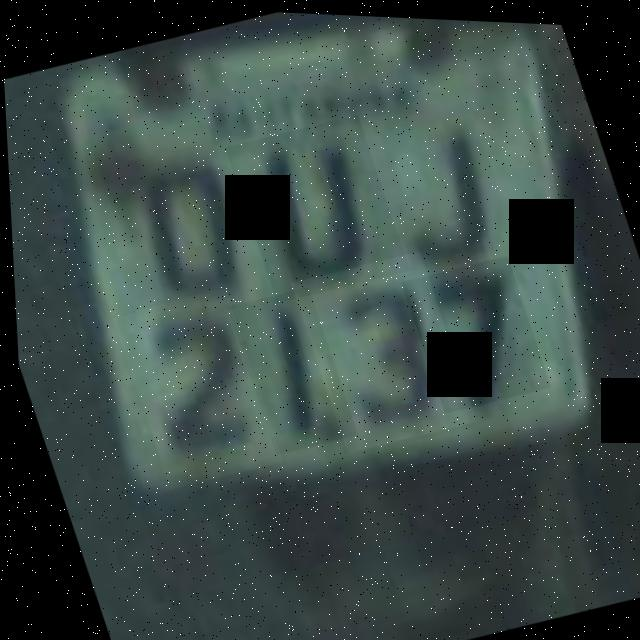1: (224, 281, 354, 454)
2: (108, 284, 281, 492)
3: (286, 242, 473, 454)
7: (397, 247, 548, 413)
O: (86, 133, 269, 330)
U: (222, 106, 409, 304)
